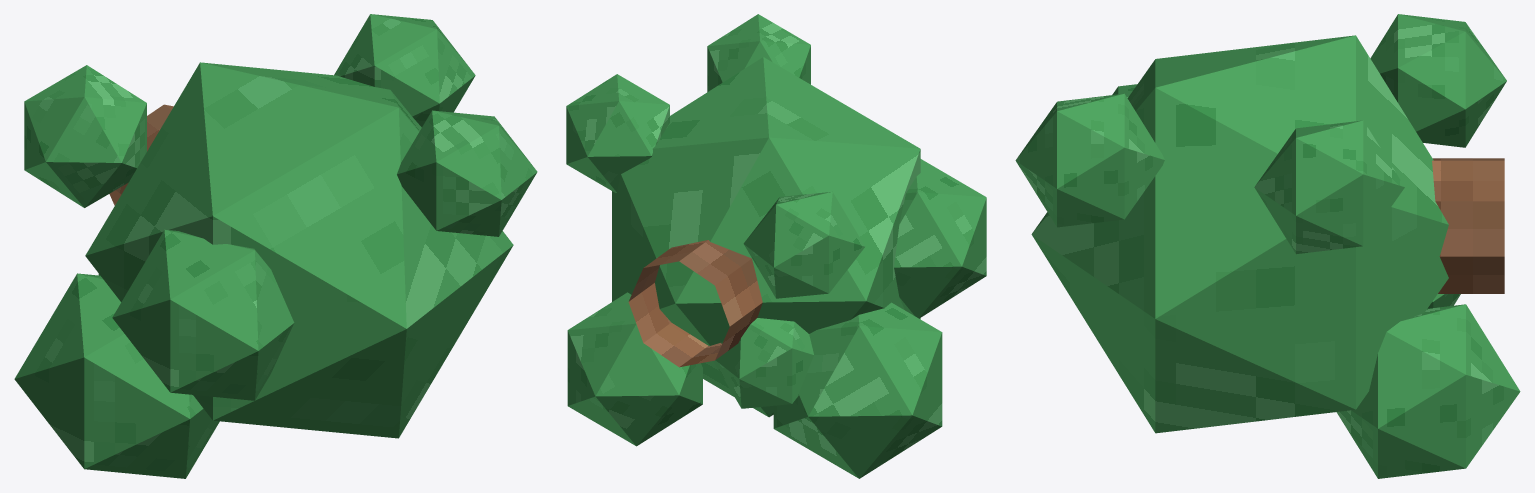
File: tree-oak-top.glb
3 renders of one model, left to right at view 1: azimuth 30°, elevation 25°; view 2: azimuth 150°, elevation 25°; view 3: azimuth 270°, elevation 25°, orthographic. The views are drawn at different scales.
Visible parts, largest first — view 1: tree-oak-top; view 2: tree-oak-top; view 3: tree-oak-top.
Part boxes in pixels (bbox=[...]): tree-oak-top: bbox=[14, 14, 537, 478]; tree-oak-top: bbox=[566, 14, 986, 478]; tree-oak-top: bbox=[1015, 14, 1520, 478].
Size of the model in its own units: 1.99 by 1.67 by 1.97.
1 material, 1 textured.
